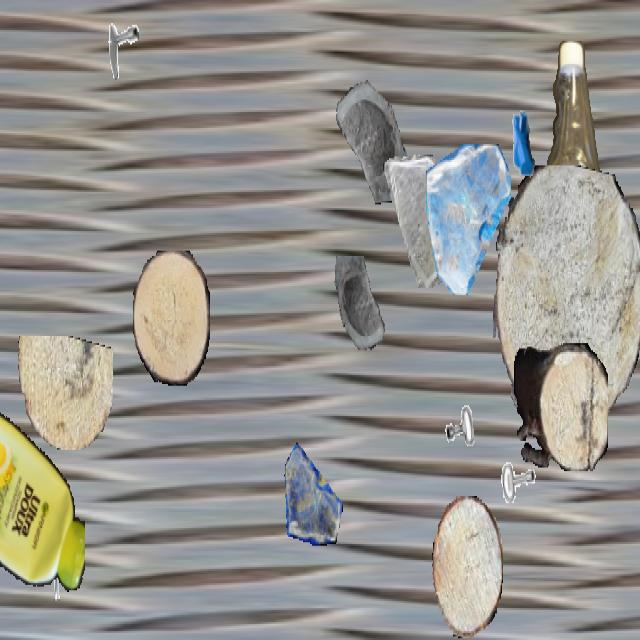glass: (426, 144, 510, 293), (326, 57, 408, 203), (382, 155, 456, 286), (331, 256, 393, 366), (284, 441, 342, 544)
metal: (431, 347, 491, 453), (494, 91, 550, 190), (498, 453, 544, 535), (39, 535, 83, 613), (97, 4, 139, 78)
plastic: (526, 41, 608, 393), (0, 393, 85, 599)
wood: (493, 166, 640, 436), (514, 343, 608, 471), (15, 336, 113, 450), (133, 250, 209, 386), (432, 496, 502, 638)
